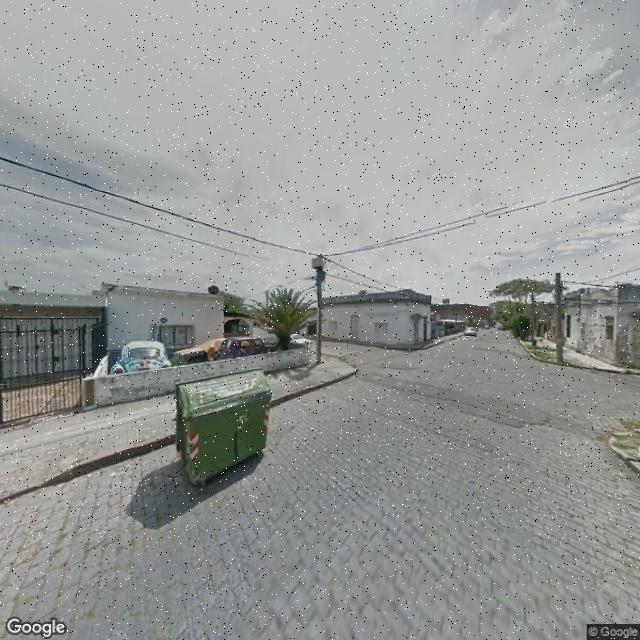garbage container: (165, 361, 282, 499)
